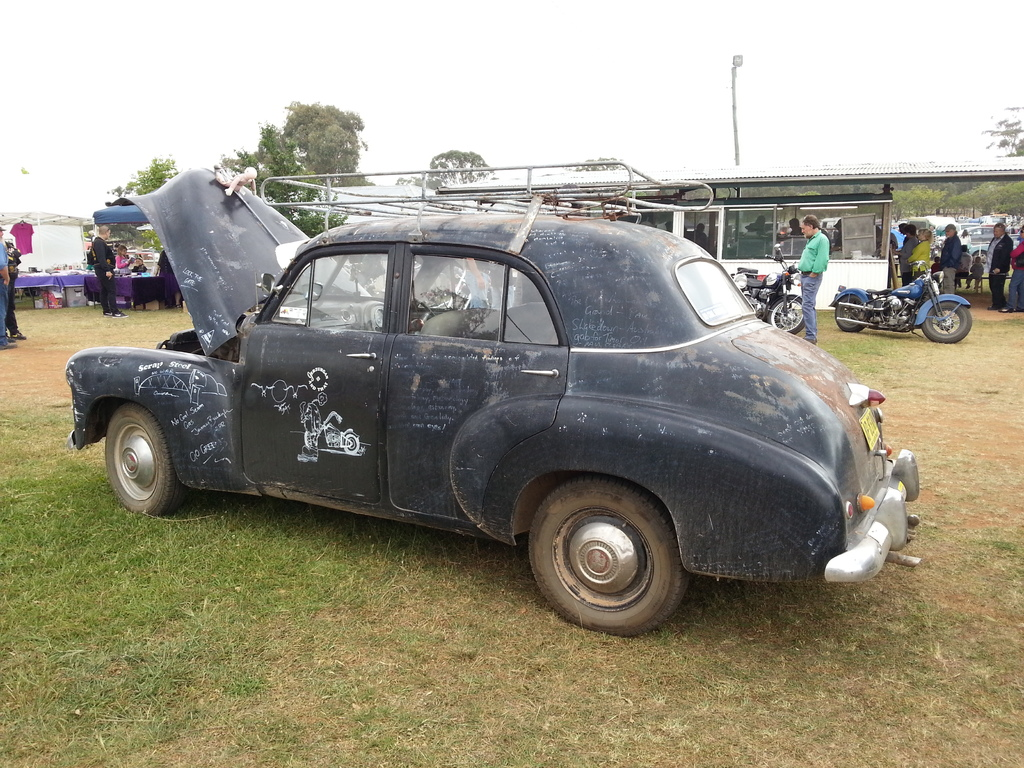Car: (65, 160, 920, 637), (940, 226, 1021, 263)
